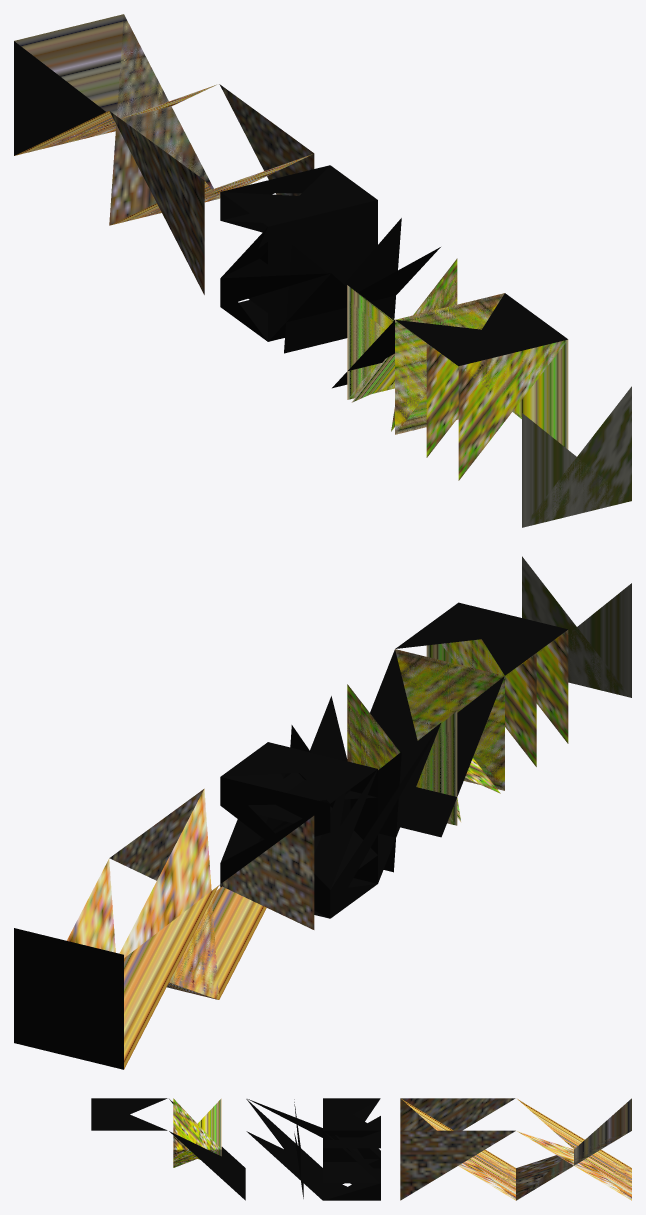
File: town_geometry_type_32.obj
The picture shows the model from 3 angles, top to bottom: view 1: azimuth 30°, elevation 25°; view 2: azimuth 150°, elevation 25°; view 3: azimuth 270°, elevation 25°; orthographic projection. The views are drawn at different scales.
Visible parts, largest first — view 1: face_list_008, face_list_059, face_list_054, face_list_056, face_list_042, face_list_006, face_list_034, face_list_003, face_list_004, face_list_030, face_list_000, face_list_031 (+12 smaller); view 2: face_list_018, face_list_003, face_list_056, face_list_017, face_list_007, face_list_059, face_list_037, face_list_034, face_list_006, face_list_002, face_list_031, face_list_053 (+15 smaller); view 3: face_list_000, face_list_056, face_list_008, face_list_006, face_list_017, face_list_036, face_list_018, face_list_037, face_list_034, face_list_029, face_list_035, face_list_031 (+3 smaller).
Part boxes in pixels (left/top/right/bottom): face_list_008: left=14, top=14, right=261, bottom=225; face_list_059: left=522, top=386, right=631, bottom=527; face_list_054: left=458, top=339, right=568, bottom=480; face_list_056: left=347, top=258, right=567, bottom=431; face_list_042: left=268, top=218, right=401, bottom=353; face_list_006: left=109, top=111, right=204, bottom=294; face_list_034: left=220, top=165, right=377, bottom=226; face_list_003: left=14, top=41, right=105, bottom=155; face_list_004: left=268, top=200, right=377, bottom=338; face_list_030: left=395, top=300, right=476, bottom=434; face_list_000: left=219, top=84, right=314, bottom=195; face_list_031: left=220, top=227, right=330, bottom=341; face_list_018: left=119, top=789, right=266, bottom=999; face_list_003: left=14, top=928, right=123, bottom=1069; face_list_056: left=347, top=602, right=567, bottom=825; face_list_017: left=67, top=858, right=218, bottom=1069; face_list_007: left=14, top=928, right=123, bottom=1068; face_list_059: left=522, top=556, right=631, bottom=697; face_list_037: left=370, top=650, right=504, bottom=837; face_list_034: left=220, top=742, right=377, bottom=831; face_list_006: left=219, top=816, right=314, bottom=929; face_list_002: left=395, top=649, right=504, bottom=790; face_list_031: left=314, top=725, right=439, bottom=918; face_list_053: left=426, top=639, right=536, bottom=766; face_list_000: left=400, top=1130, right=515, bottom=1200; face_list_056: left=91, top=1098, right=221, bottom=1167; face_list_008: left=323, top=1098, right=631, bottom=1200; face_list_006: left=400, top=1098, right=515, bottom=1130; face_list_017: left=517, top=1099, right=631, bottom=1200; face_list_036: left=246, top=1099, right=322, bottom=1200; face_list_018: left=401, top=1099, right=515, bottom=1200; face_list_037: left=169, top=1099, right=245, bottom=1200; face_list_034: left=323, top=1098, right=379, bottom=1130; face_list_029: left=323, top=1132, right=380, bottom=1200; face_list_035: left=323, top=1098, right=380, bottom=1183; face_list_031: left=248, top=1099, right=380, bottom=1200.
Size of the model in its own units: 64 by 64 by 512.
Materials: 9 (9 with a texture image).
